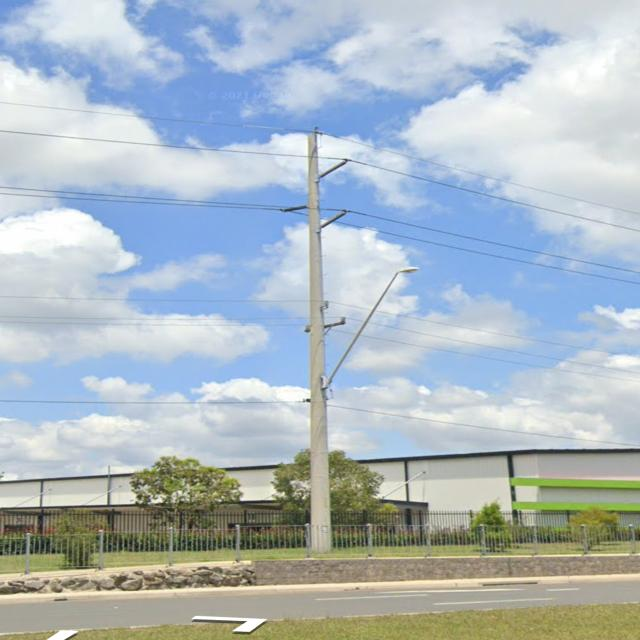HV-transmission: (283, 130, 348, 331)
crossarm: (304, 318, 348, 334), (316, 159, 349, 178), (319, 209, 352, 227), (282, 204, 307, 213)
streetlight: (326, 266, 418, 390)
timber-pole: (307, 135, 332, 556)
